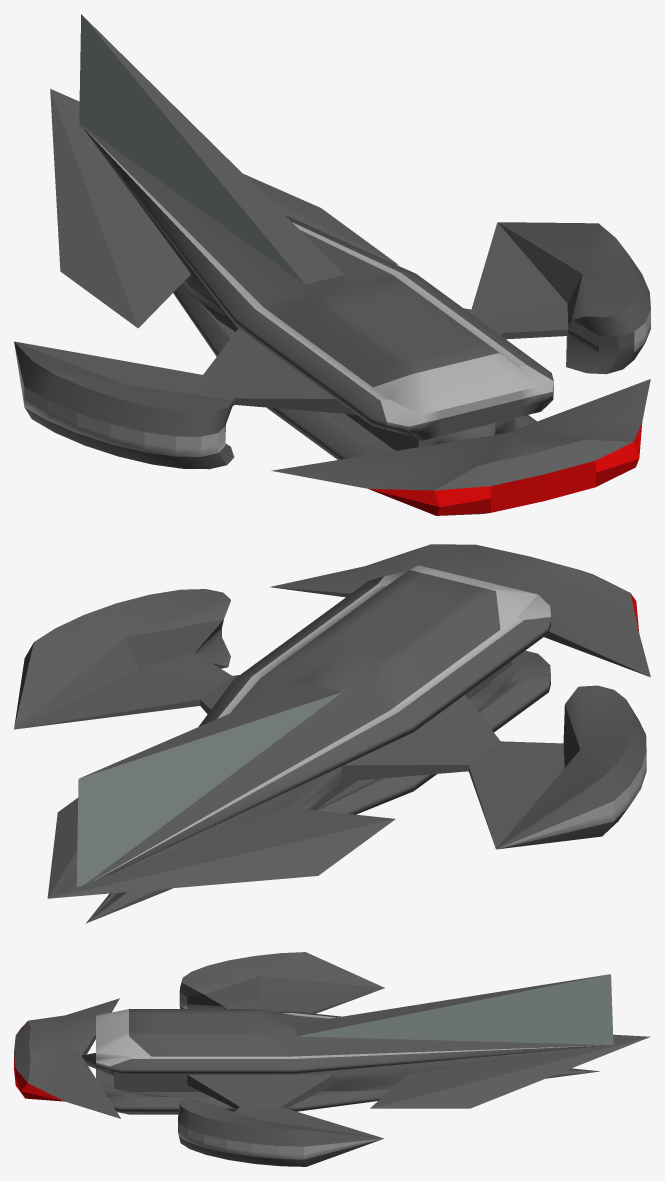
The model's file is hammerdrone.fbx.
The picture shows the model from 3 angles, top to bottom: view 1: azimuth 30°, elevation 25°; view 2: azimuth 150°, elevation 25°; view 3: azimuth 270°, elevation 25°; orthographic projection. The views are drawn at different scales.
Parts seen in each view (by area): view 1: hammerdrone; view 2: hammerdrone; view 3: hammerdrone.
Boxes of the visible parts, x1,y1,x2,y2 form: hammerdrone: [14, 14, 650, 515]; hammerdrone: [14, 544, 650, 923]; hammerdrone: [14, 952, 650, 1166].
Size of the model in its own units: 10.73 by 3.43 by 15.63.
